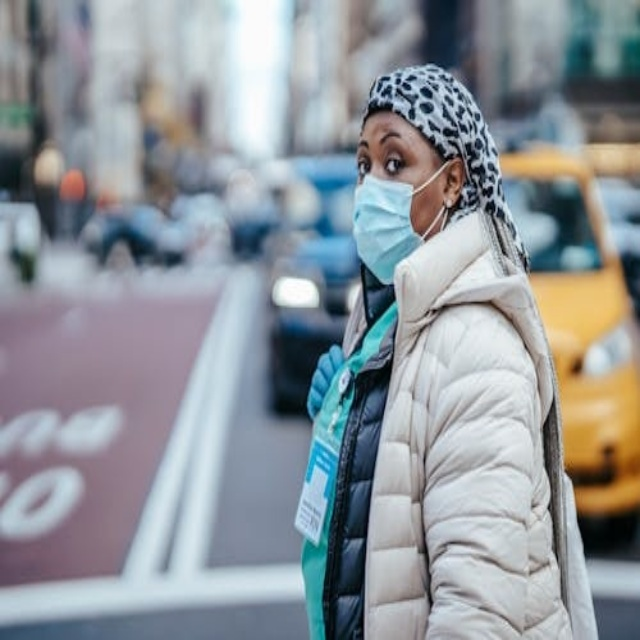Guantes: (308, 344, 344, 418)
Mascara: (353, 158, 444, 284)
Sin_gafas: (384, 156, 405, 175), (357, 156, 371, 177)
